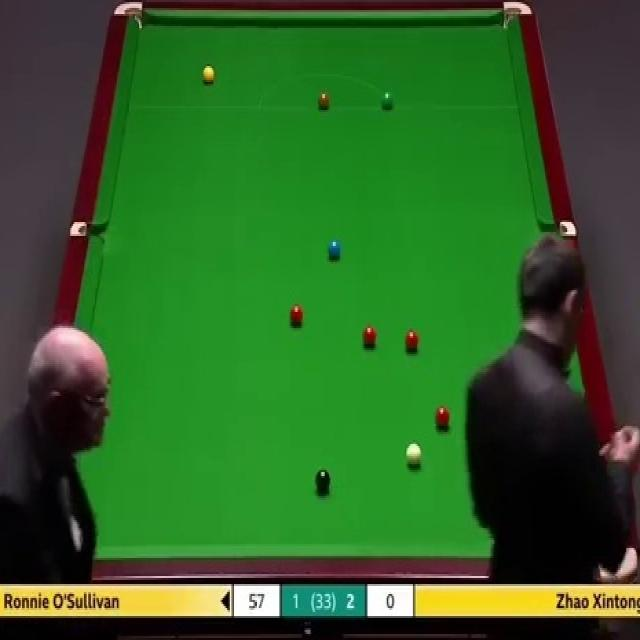pocket: (504, 1, 534, 30), (113, 0, 142, 27), (71, 219, 103, 240), (543, 220, 576, 240)
